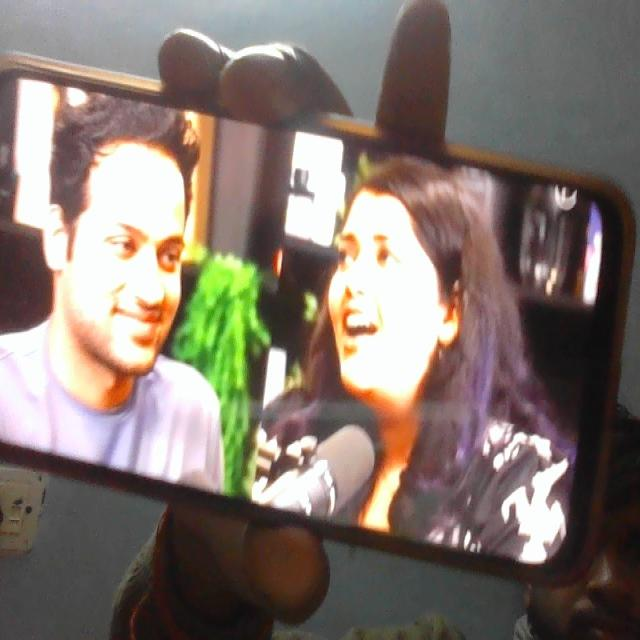fake: (50, 71, 214, 380)
